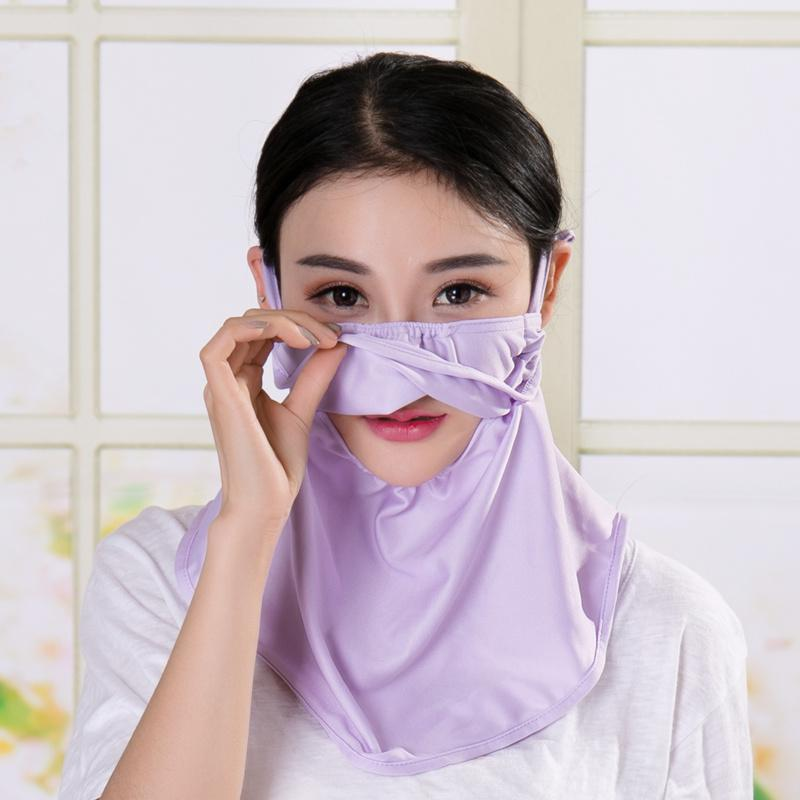WRONG: (287, 246, 527, 476)
